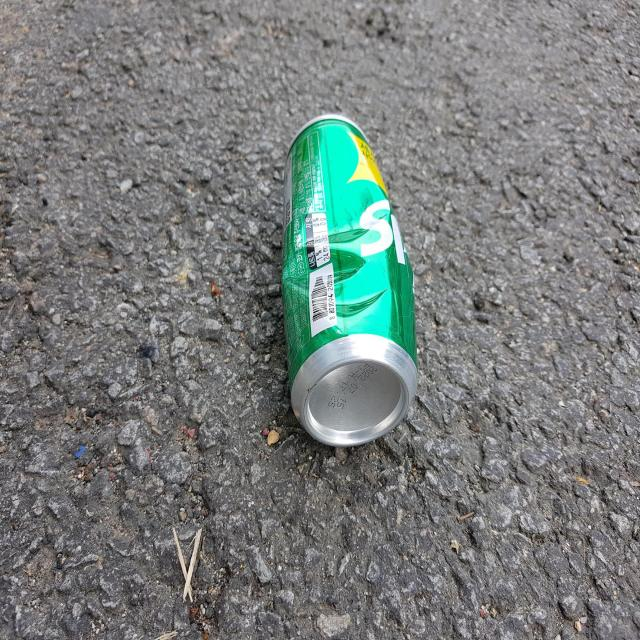can: (282, 114, 418, 447)
